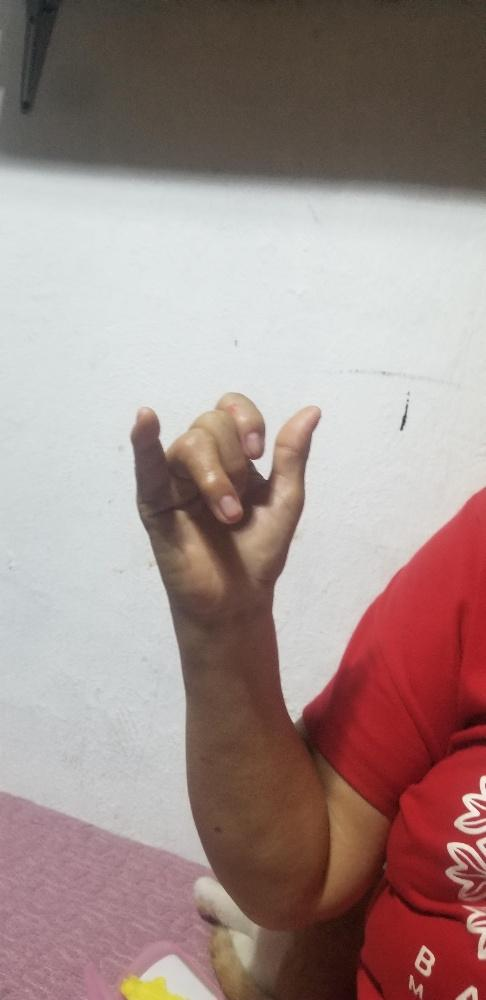y: (129, 388, 322, 559)
